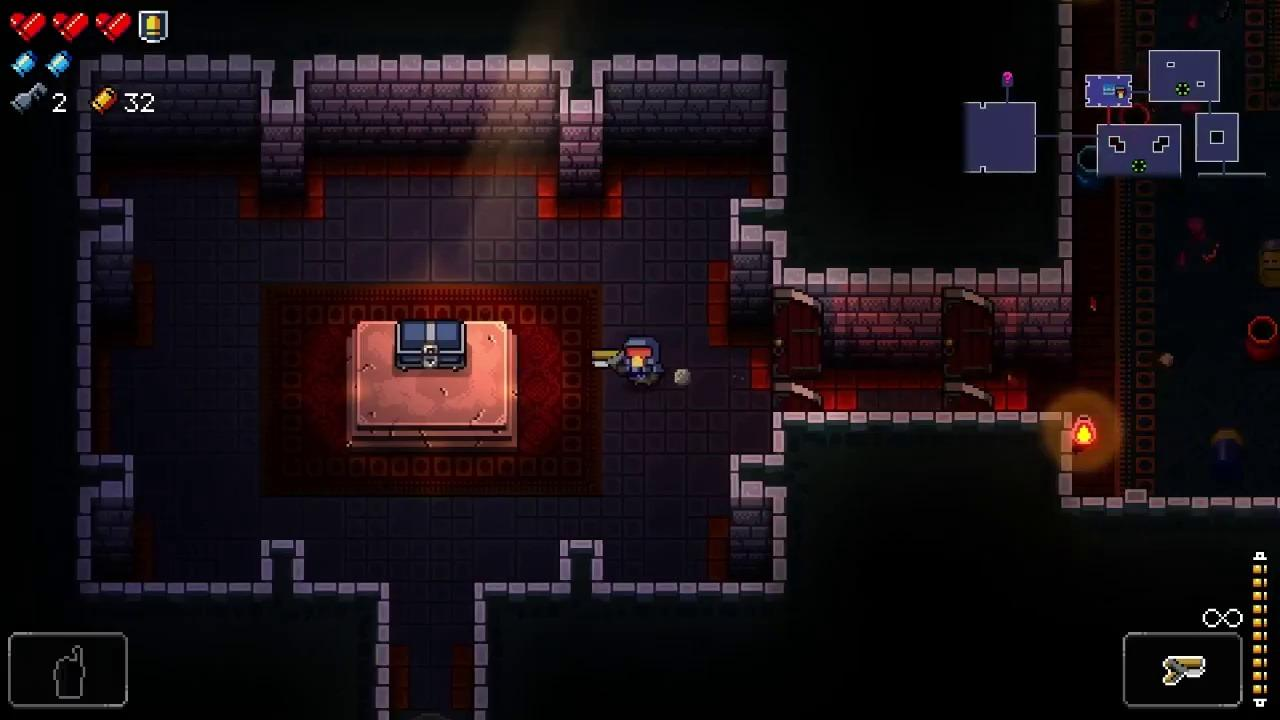blue_chest: (394, 319, 469, 370)
player: (622, 335, 663, 391)
unlocked_door: (942, 286, 993, 411), (772, 289, 823, 411)
